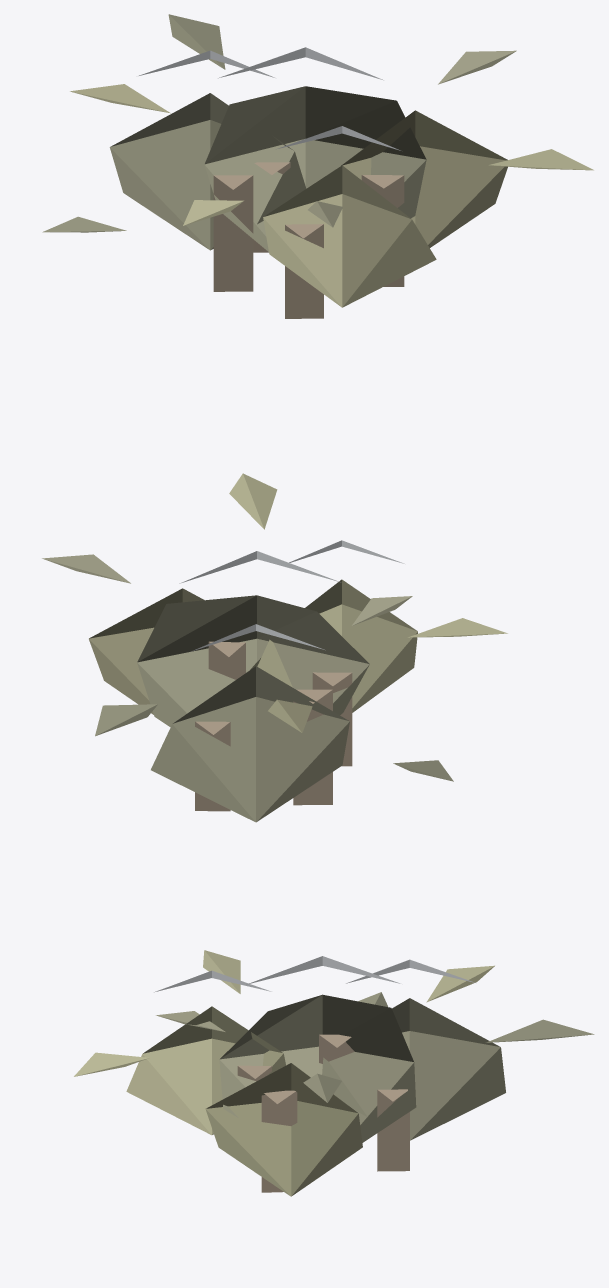
File: guan.aili@subadult__winter.glb
3 renders of one model, top to bottom at view 1: azimuth 30°, elevation 25°; view 2: azimuth 150°, elevation 25°; view 3: azimuth 270°, elevation 25°, orthographic. The views are drawn at different scales.
Visible parts, largest first — view 1: guan.aili@subadult__winter; view 2: guan.aili@subadult__winter; view 3: guan.aili@subadult__winter.
Boxes of the visible parts, left/top/right/bottom form: guan.aili@subadult__winter: left=42, top=14, right=593, bottom=318; guan.aili@subadult__winter: left=42, top=473, right=507, bottom=822; guan.aili@subadult__winter: left=74, top=950, right=594, bottom=1196.
Size of the model in its own units: 1.37 by 0.5859 by 1.42.
